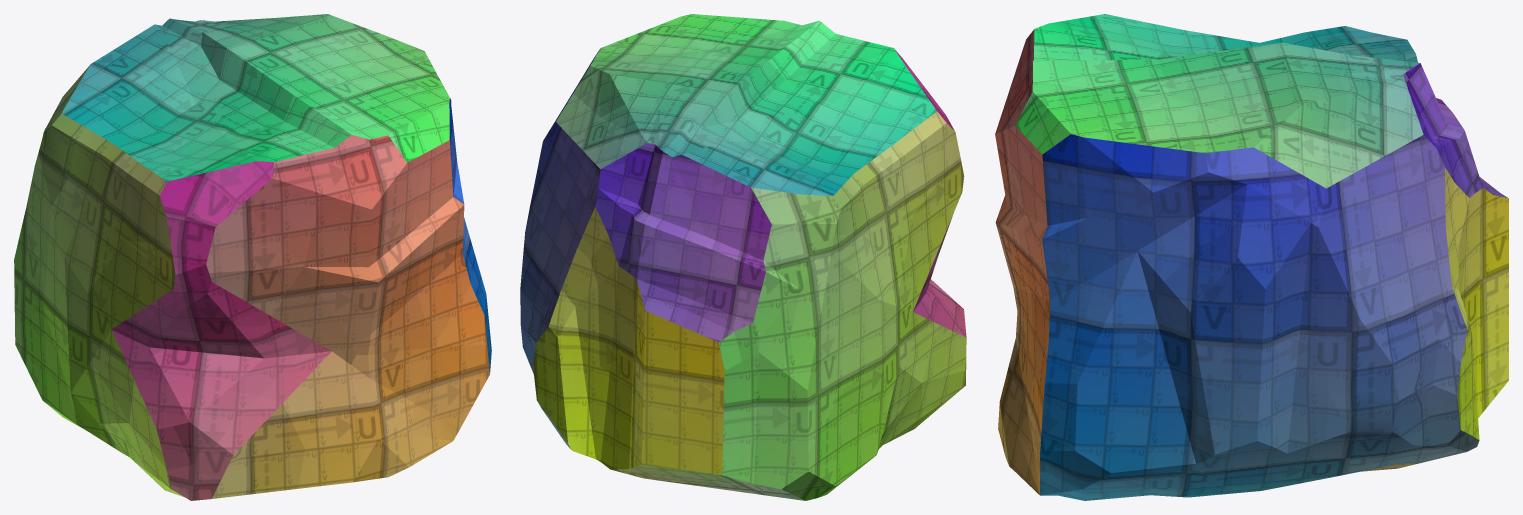
The model's file is Rock3Redo_Hite.obj.
The picture shows the model from 3 angles, left to right: view 1: azimuth 30°, elevation 25°; view 2: azimuth 150°, elevation 25°; view 3: azimuth 270°, elevation 25°; orthographic projection. The views are drawn at different scales.
Parts seen in each view (by area): view 1: polySurface4; view 2: polySurface4; view 3: polySurface4.
Boxes of the visible parts, x1,y1,x2,y2 form: polySurface4: (14, 14, 491, 500); polySurface4: (520, 14, 966, 500); polySurface4: (995, 14, 1508, 500).
Size of the model in its own units: 15.13 by 14.97 by 16.87.
1 material, 1 textured.
